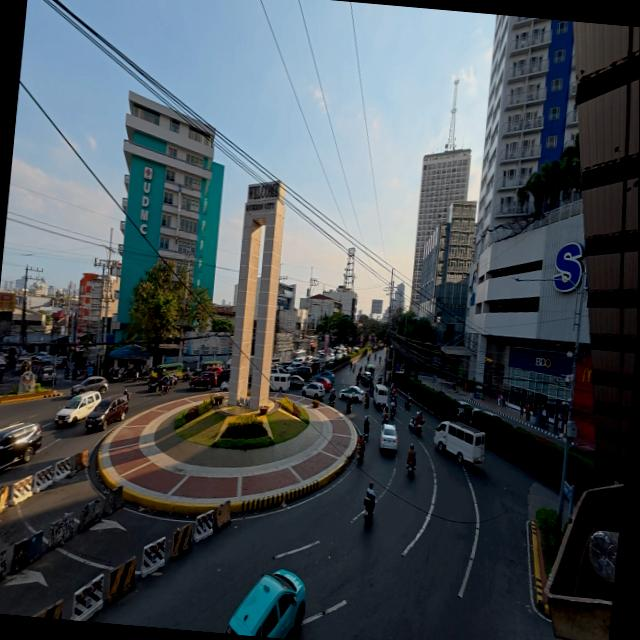Jeepneys: (151, 363, 183, 378), (365, 364, 375, 376)
car: (225, 570, 306, 638), (0, 423, 42, 470), (85, 396, 129, 430), (71, 376, 108, 396), (189, 371, 217, 390), (380, 425, 397, 453), (570, 444, 596, 460), (302, 382, 325, 399), (340, 386, 364, 402), (292, 365, 312, 381), (315, 376, 332, 391), (457, 401, 471, 417), (289, 376, 304, 390), (217, 369, 230, 385), (321, 370, 335, 384), (360, 372, 372, 385), (310, 360, 319, 374), (220, 381, 229, 392)
motorcycle: (364, 497, 374, 526), (409, 417, 424, 435), (408, 453, 416, 476), (148, 378, 160, 392), (357, 446, 364, 464), (364, 421, 370, 441), (111, 372, 122, 382), (161, 382, 170, 394), (408, 462, 414, 476), (346, 402, 352, 415), (124, 389, 130, 401), (329, 394, 335, 406), (390, 404, 395, 418), (364, 394, 369, 407), (405, 399, 410, 410), (383, 413, 388, 424), (65, 367, 69, 379), (356, 374, 360, 386), (378, 376, 382, 384), (352, 364, 355, 372), (374, 354, 376, 361), (379, 357, 380, 363)
trucks: (38, 364, 56, 385)
vans: (434, 421, 485, 463), (56, 392, 101, 425), (270, 373, 290, 392), (373, 385, 388, 407)
